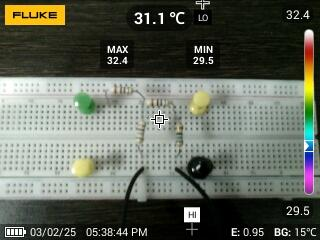resistor: (133, 117, 147, 149), (173, 118, 185, 150), (108, 83, 135, 96), (143, 97, 173, 108)
